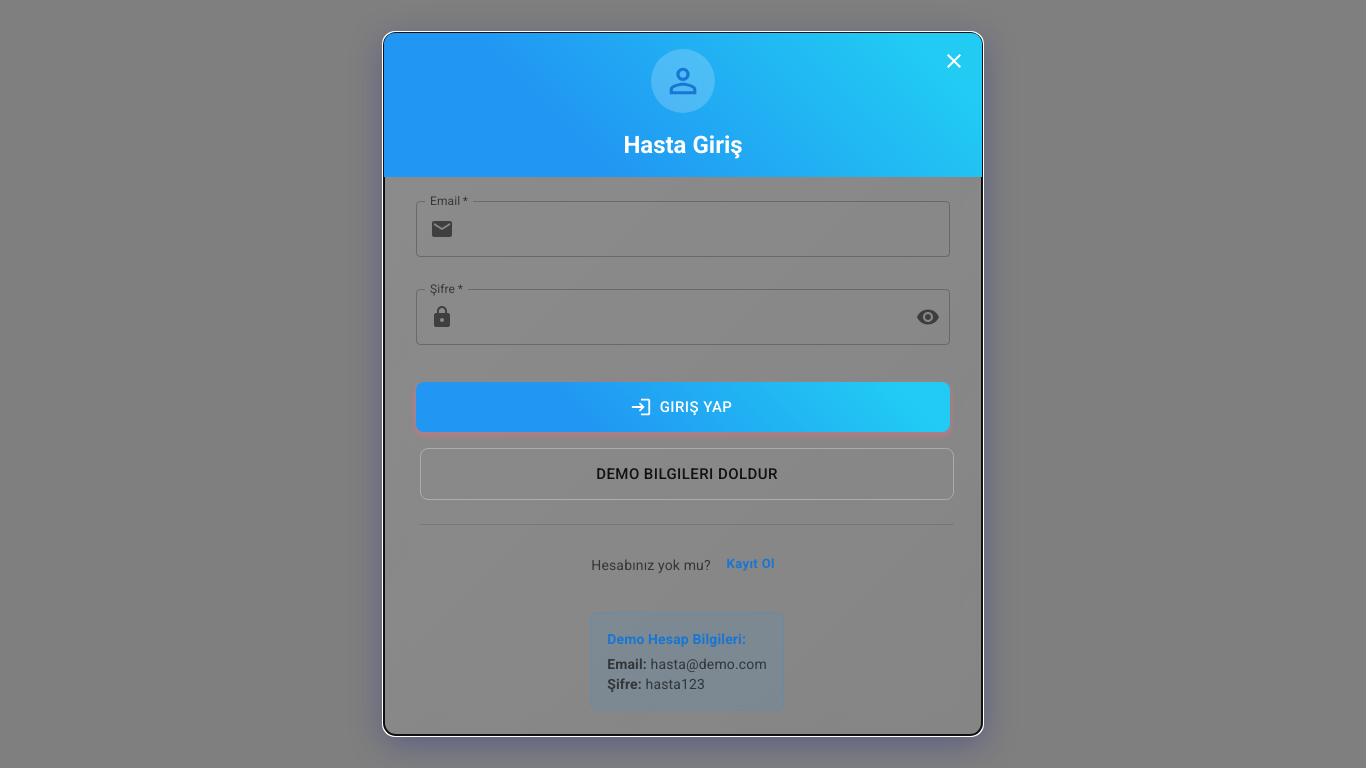
Scenario: LoginModal › toggles between login and register mode
Expected: the button "Giriş Yap" is shown, [416,382,950,432]
Expected: the field labelled "ad soyad" is not shown
Click the button "Kayıt Ol" at (751, 565), box [719,549,783,580]
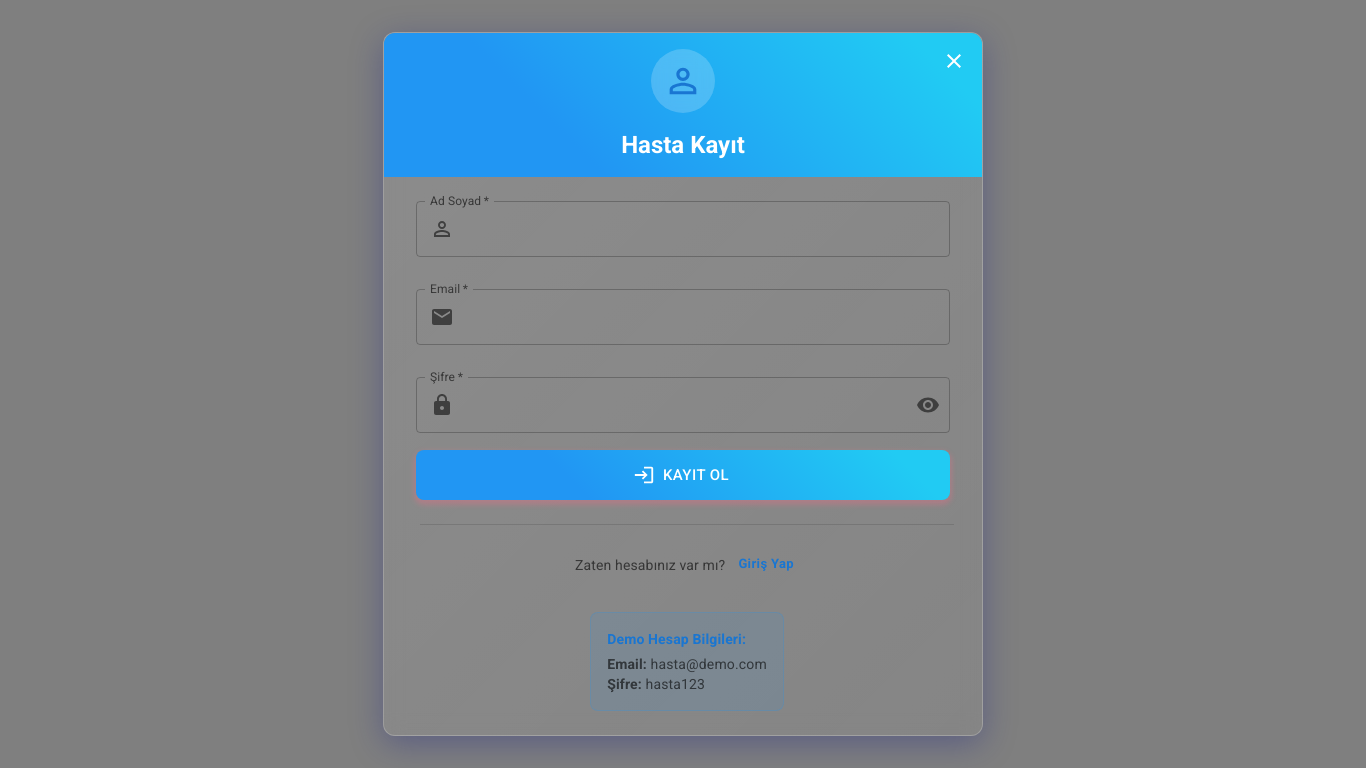
Expected: the heading "Hasta Kayıt" is shown, [621,129,745,161]
Expected: the field labelled "Ad Soyad *" is shown, [462,201,950,257]
